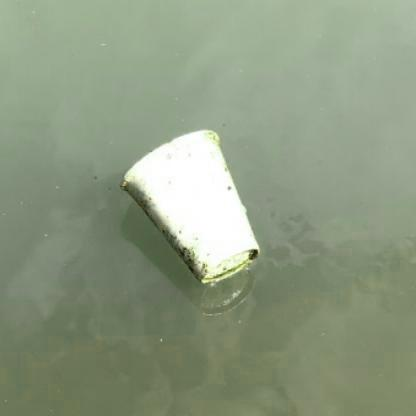Plastic: (118, 127, 268, 286)
